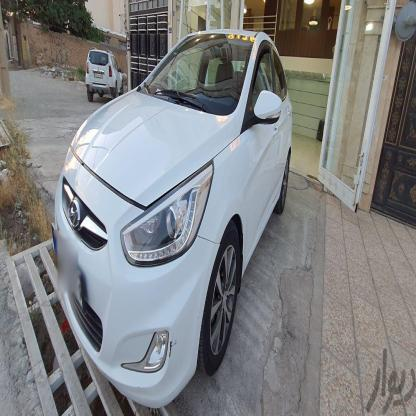Car: (39, 21, 293, 396), (74, 37, 126, 104)
